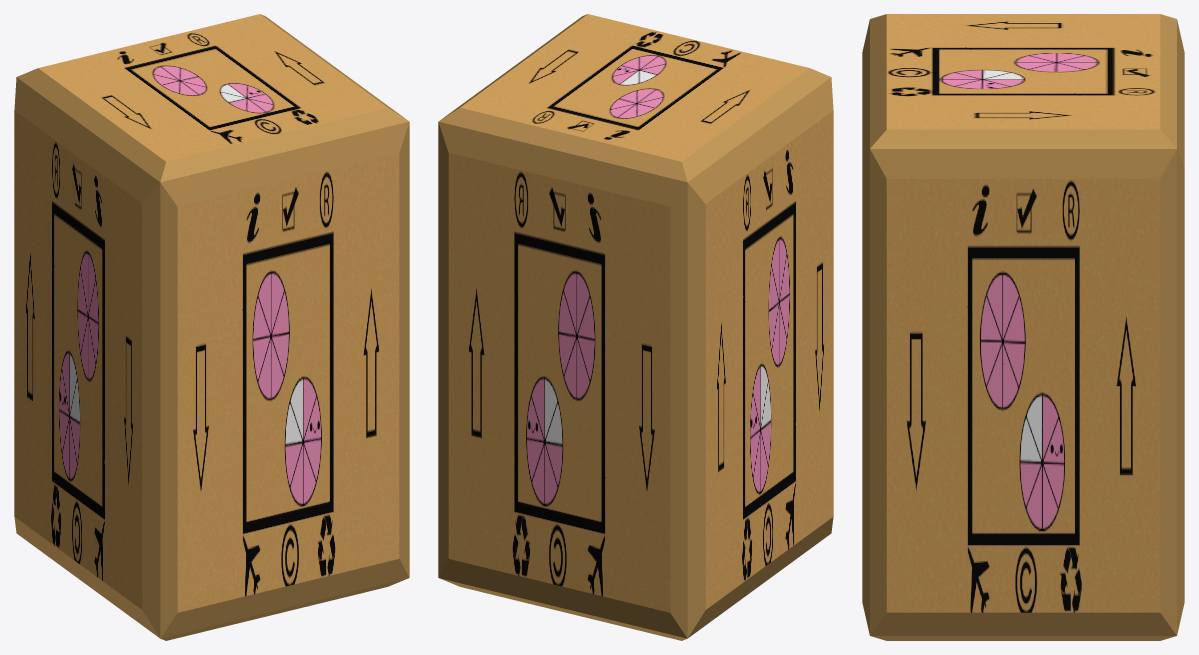
3 renders of one model, left to right at view 1: azimuth 30°, elevation 25°; view 2: azimuth 150°, elevation 25°; view 3: azimuth 270°, elevation 25°, orthographic. The views are drawn at different scales.
Parts seen in each view (by area): view 1: 7/4; view 2: 7/4; view 3: 7/4.
Boxes of the visible parts, x1,y1,x2,y2 form: 7/4: (14,14,409,640); 7/4: (438,14,833,640); 7/4: (862,14,1184,640).
Size of the model in its own units: 213 by 368 by 210.
Materials: 2 (1 with a texture image).
